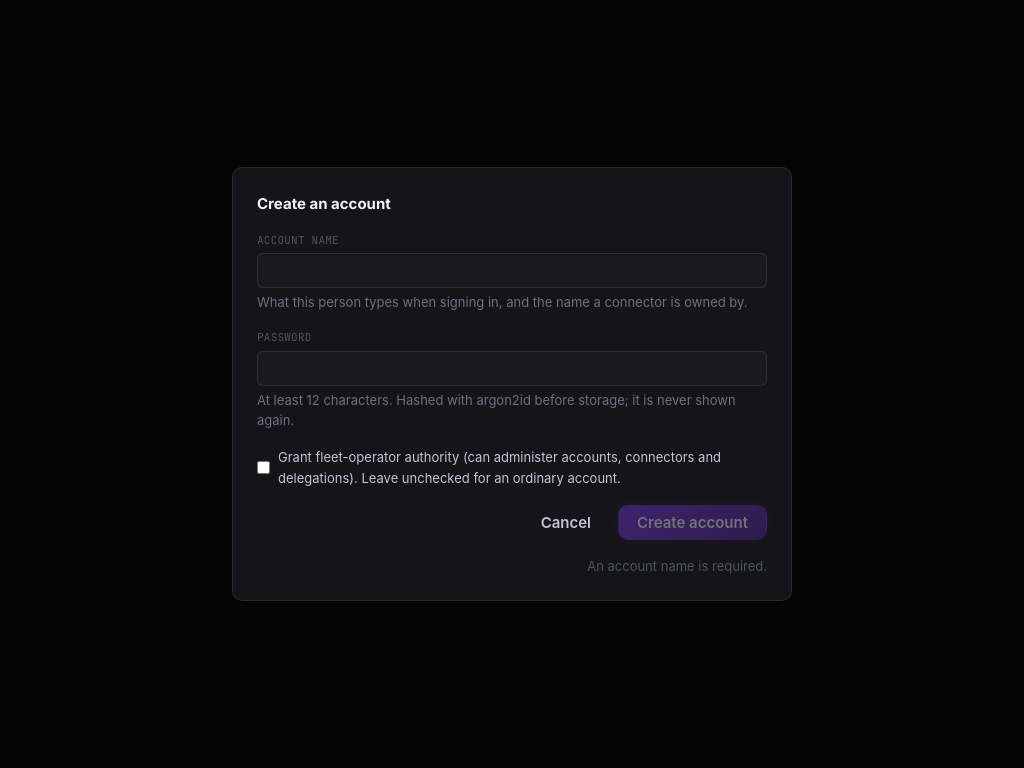
AccountCreateDialog — the password does not outlive the flow › clears the password on SUCCESS and never renders it
Type "new-person" into the field labelled "Account name". click: (512, 271)
box: [257,253,767,288]
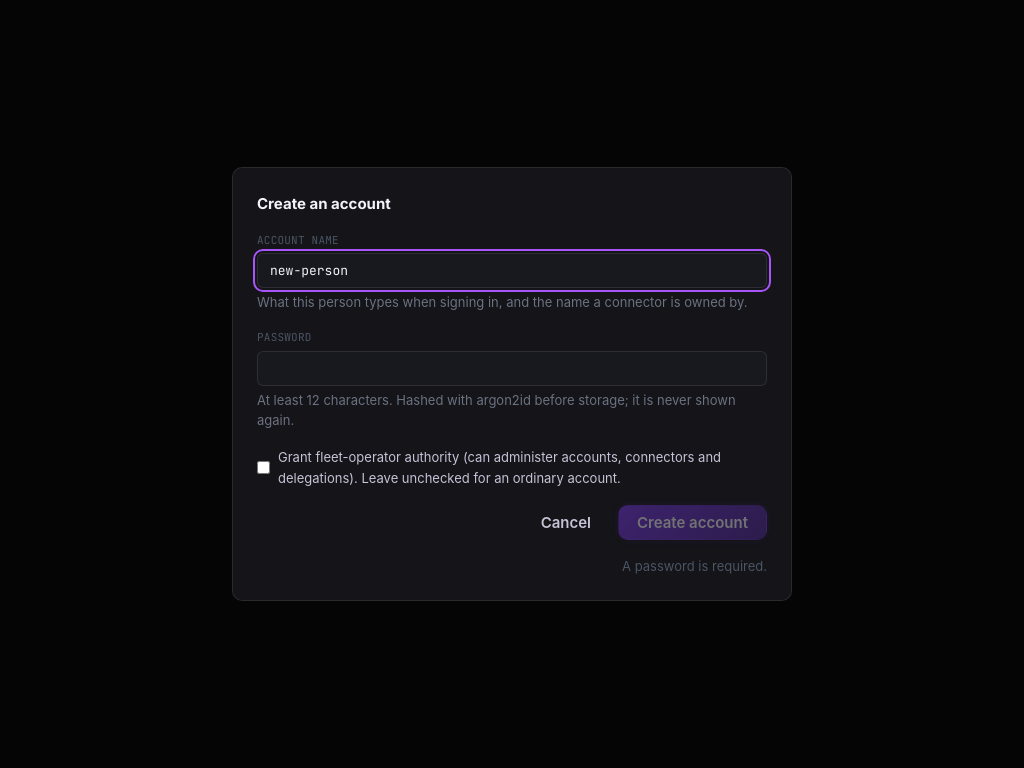
Type "a-synthetic-passphrase-for-this-test" into the password field labelled "Password". click: (512, 368)
box: [257,350,767,386]
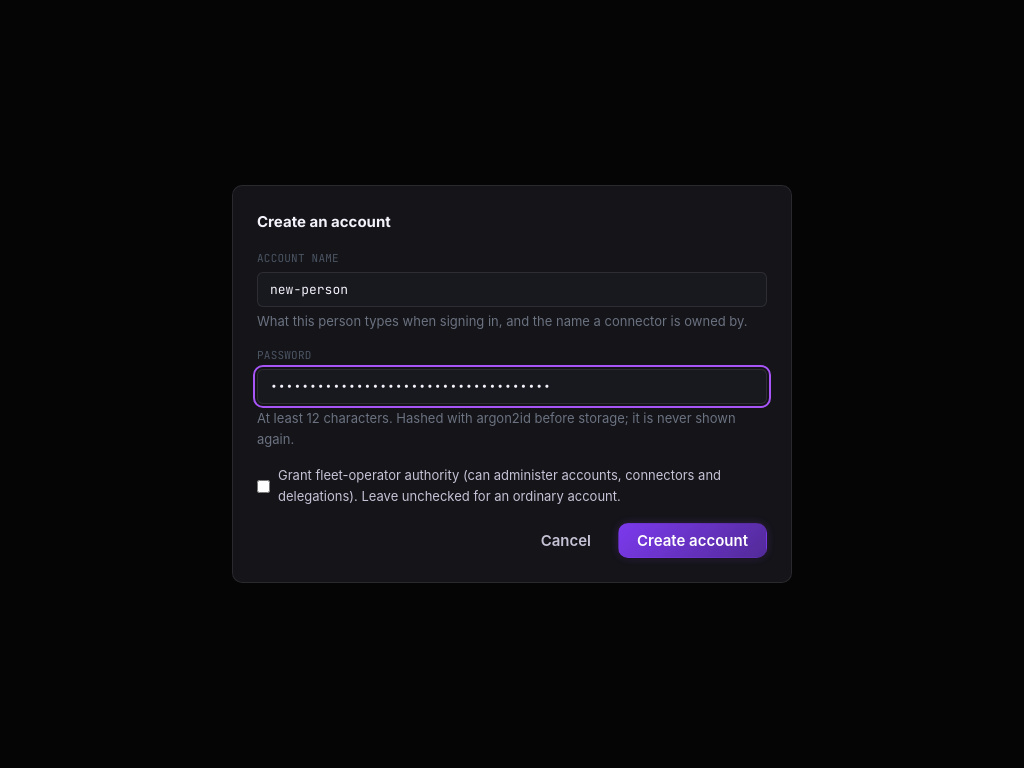
Click the button "Create account". click: (692, 541)
box: [618,523,767,558]
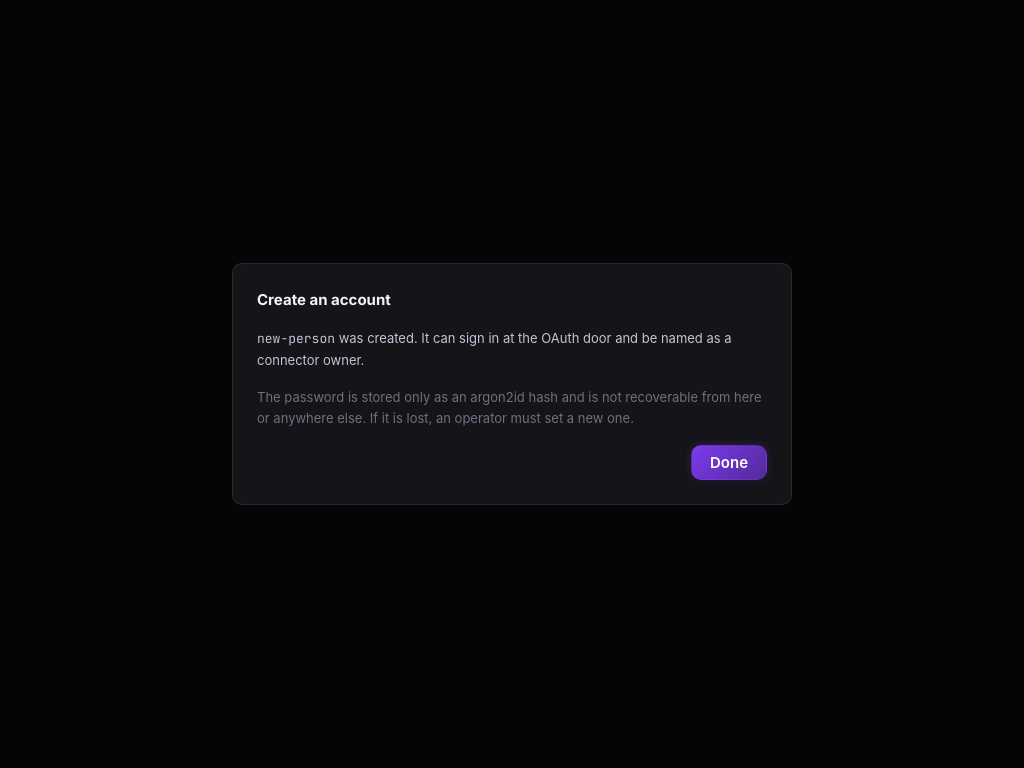
Expected: the text "was created" is shown, [339,330,418,346]
